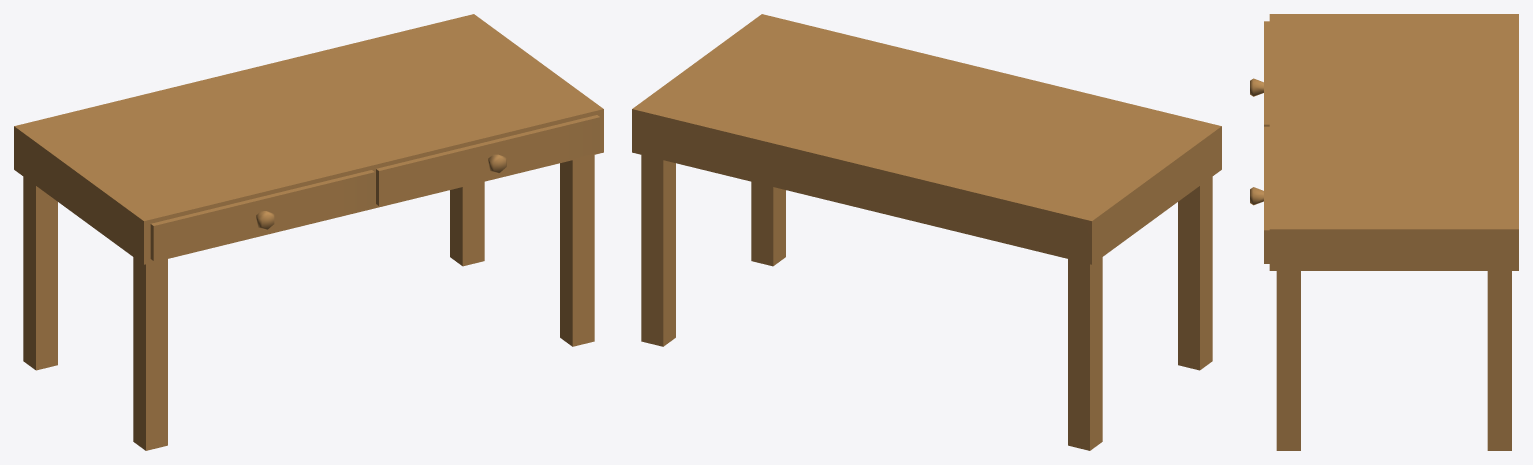
File: 07_furniture_desk.FBX
3 views of the same model, side by side, from view 1: azimuth 30°, elevation 25°; view 2: azimuth 150°, elevation 25°; view 3: azimuth 270°, elevation 25° (orthographic). The views are drawn at different scales.
Parts seen in each view (by area): view 1: furniture_desk, furniture_drawer1, furniture_drawer2; view 2: furniture_desk; view 3: furniture_desk, furniture_drawer2, furniture_drawer1.
Boxes of the visible parts, x1,y1,x2,y2 form: furniture_desk: (14, 14, 603, 450); furniture_drawer1: (150, 170, 374, 260); furniture_drawer2: (376, 115, 600, 205); furniture_desk: (632, 14, 1221, 450); furniture_desk: (1269, 14, 1518, 450); furniture_drawer2: (1250, 126, 1269, 263); furniture_drawer1: (1250, 21, 1269, 126).
Size of the model in its own units: 102 by 49.46 by 53.71.
